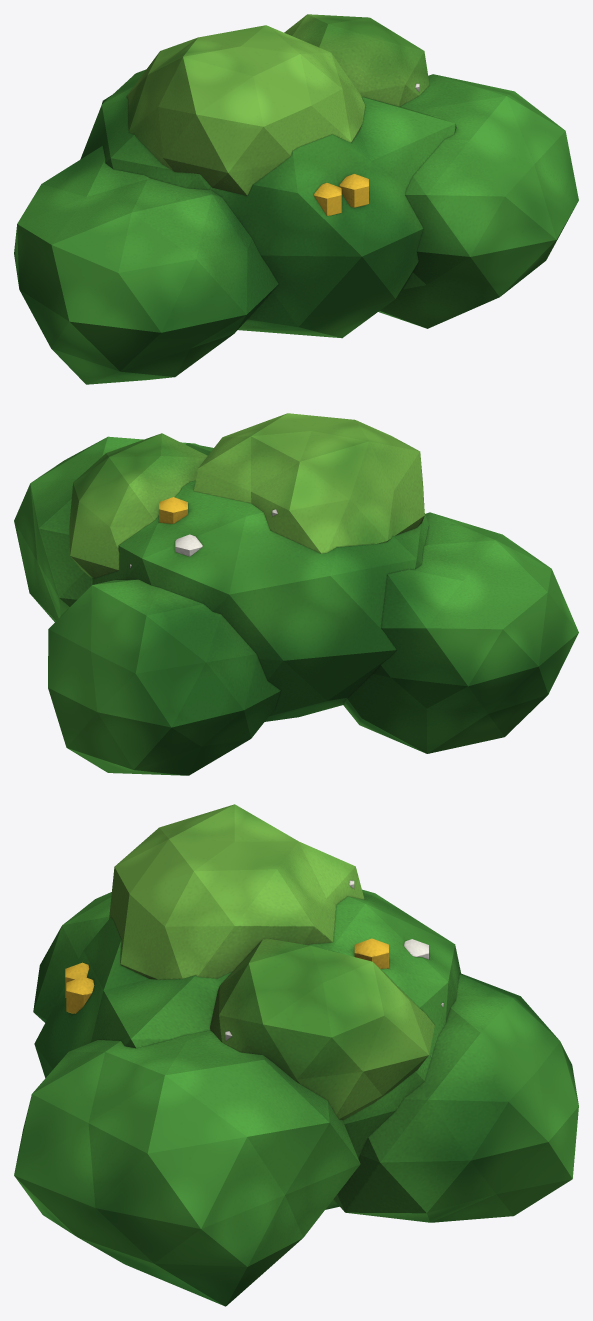
Rendered from arbusto_01.fbx.
The picture shows the model from 3 angles, top to bottom: view 1: azimuth 30°, elevation 25°; view 2: azimuth 150°, elevation 25°; view 3: azimuth 270°, elevation 25°; orthographic projection. The views are drawn at different scales.
Parts seen in each view (by area): view 1: arbusto_01; view 2: arbusto_01; view 3: arbusto_01.
Boxes of the visible parts, box(x1,y1,x2,y2) form: arbusto_01: box(14, 14, 578, 384); arbusto_01: box(14, 413, 578, 775); arbusto_01: box(14, 804, 578, 1306).
Bounding box in the file's own units: 7.67 × 4.11 × 5.95.
1 material, 1 textured.
